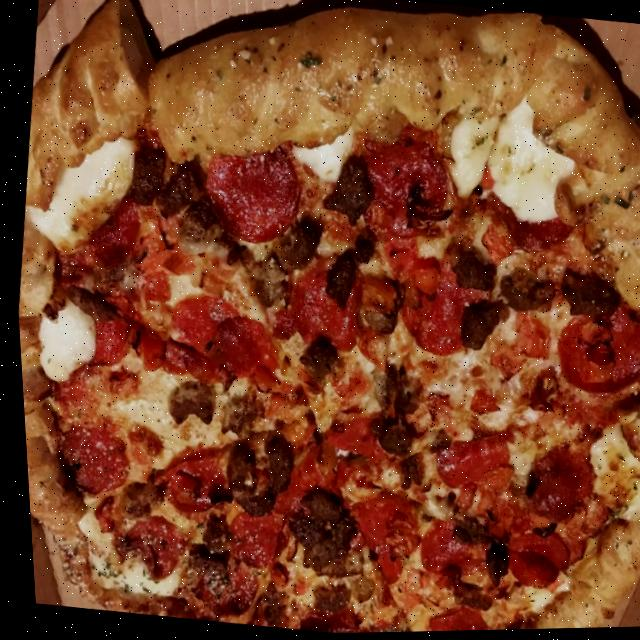pepperoni: (377, 242, 501, 380), (334, 124, 457, 252), (190, 127, 306, 252), (264, 250, 372, 378), (542, 295, 640, 404), (471, 191, 589, 270), (332, 484, 420, 582), (187, 308, 282, 397), (99, 501, 185, 594), (258, 437, 341, 533), (510, 436, 601, 523), (65, 188, 144, 280), (422, 428, 520, 500), (407, 511, 488, 593), (490, 518, 574, 597), (49, 422, 129, 503), (210, 502, 294, 578), (180, 551, 260, 625), (152, 450, 230, 521), (318, 409, 385, 471), (406, 598, 485, 633)
pizza: (0, 0, 640, 640)
